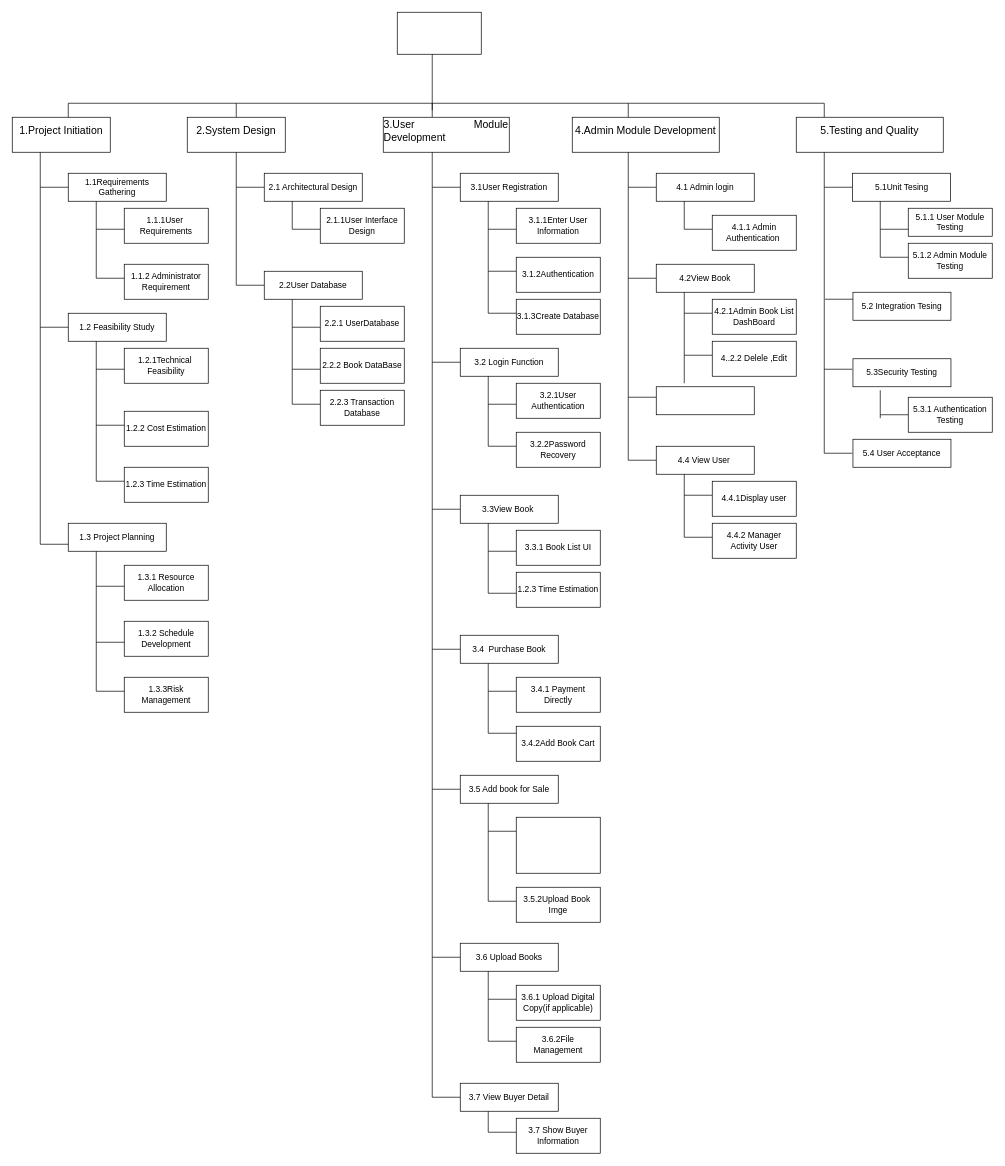
This 1005x1166 diagram has some shape labels left out. The centre of each missing label's shape, as x and y in pixels:
3.5.1Book Detail (Name, Author, Price, Condition): the point at 558,845
4.3 View Transaction History: the point at 705,400
BOOK-ONLINE: the point at 439,33
